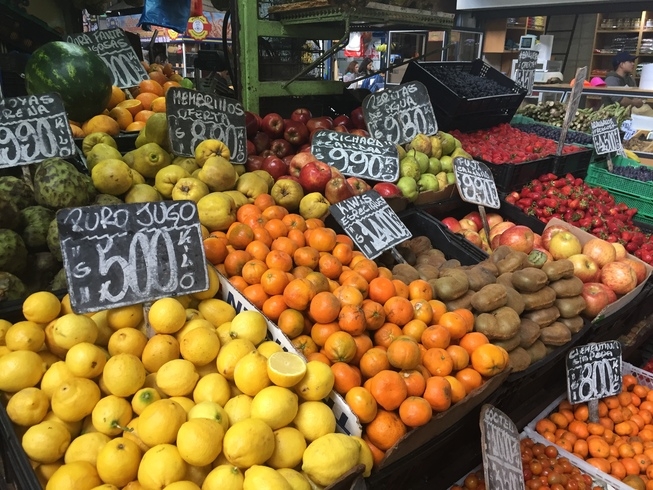precio: (51, 198, 223, 312), (160, 83, 259, 176), (464, 394, 546, 490), (321, 187, 418, 265), (1, 89, 84, 175), (307, 125, 411, 192), (57, 28, 154, 94), (362, 77, 442, 147), (563, 340, 630, 415), (447, 151, 510, 216), (584, 111, 630, 159)
